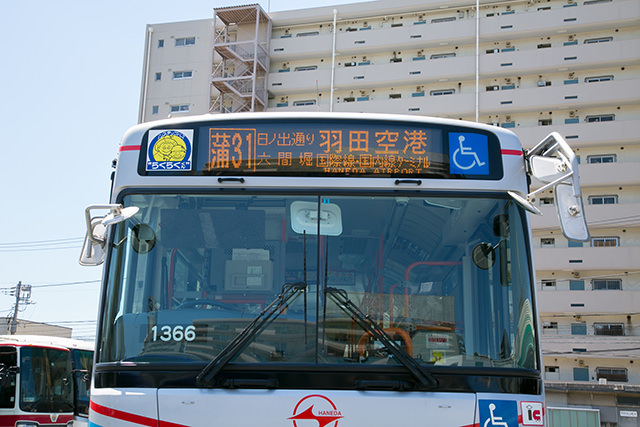destination: (194, 125, 446, 176)
